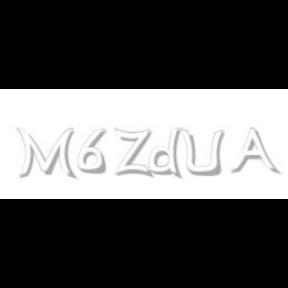6: (78, 128, 106, 176)
A: (230, 128, 278, 176)
M: (16, 128, 74, 180)
U: (180, 128, 224, 178)
Z: (115, 128, 152, 178)
d: (148, 128, 186, 180)
